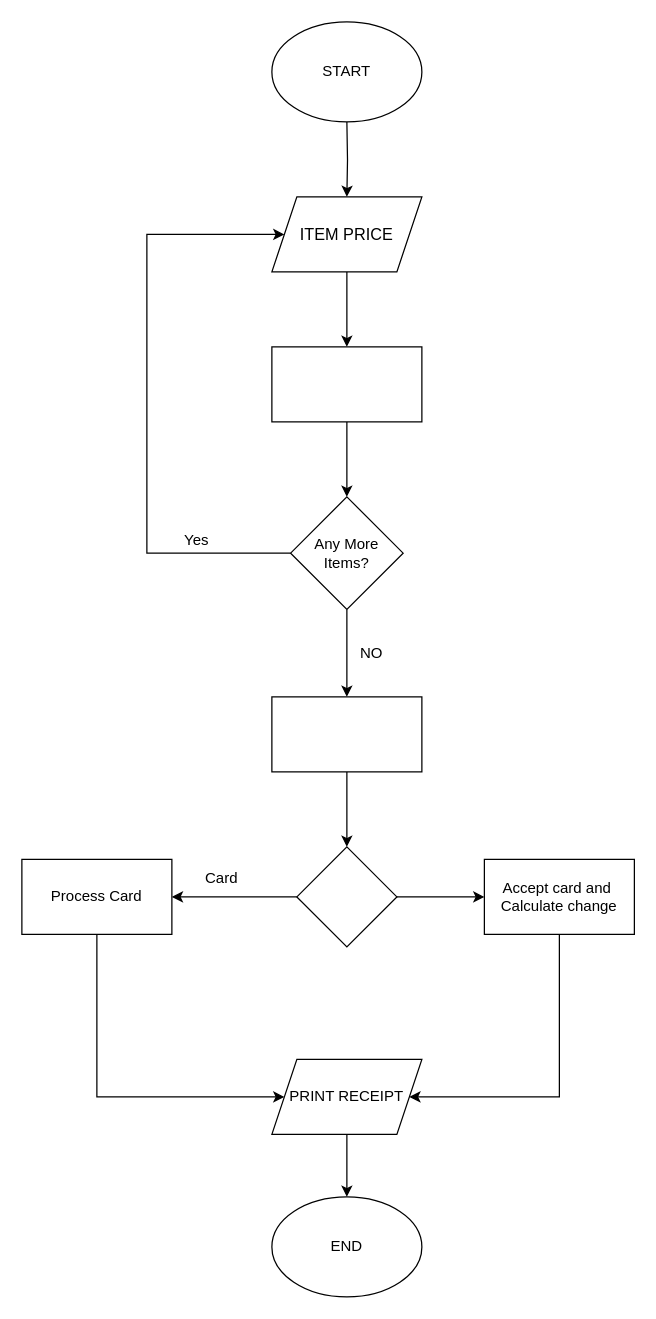
Some shapes in this 656 by 1319 pixel diagram are drawn without their labels. The centre of each missing label's shape, as x and y in pixels:
ADD PRICE TO TOTAL: (x=346, y=384)
CALCULATE TOTAL: (x=346, y=734)
Payment Method?: (x=346, y=896)
